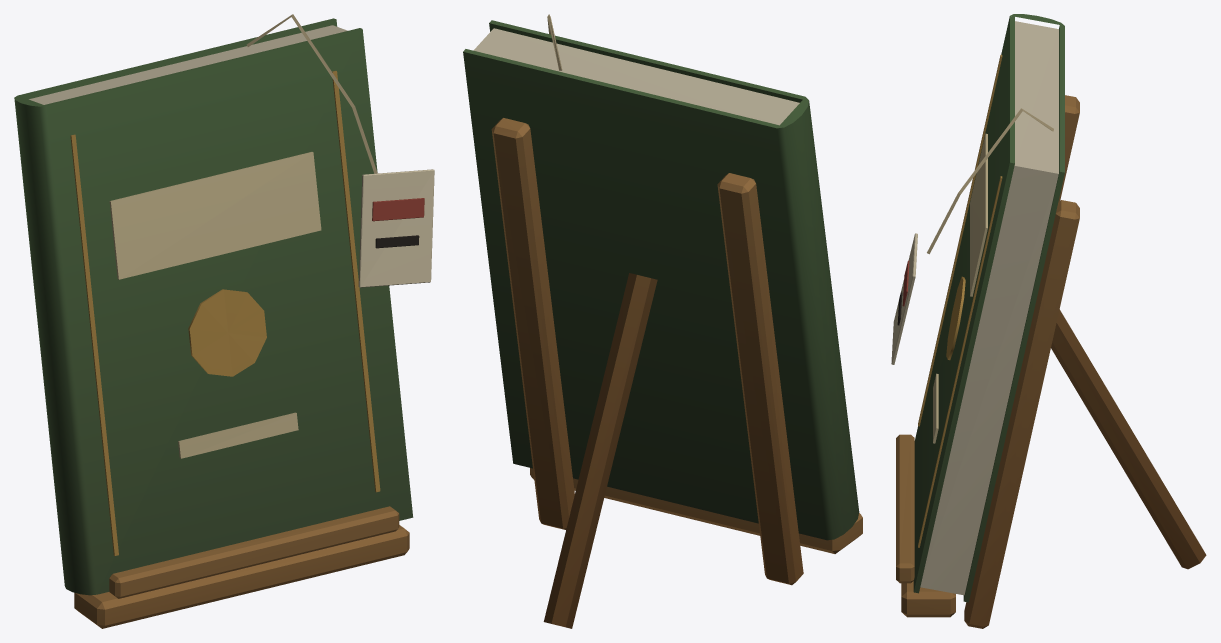
The model's file is faceout-book.glb.
The picture shows the model from 3 angles, left to right: view 1: azimuth 30°, elevation 25°; view 2: azimuth 150°, elevation 25°; view 3: azimuth 270°, elevation 25°; orthographic projection. The views are drawn at different scales.
Parts seen in each view (by area): view 1: faceout_book; view 2: faceout_book; view 3: faceout_book.
Boxes of the visible parts, x1=… form: faceout_book: x1=14, y1=14, x2=434, y2=628; faceout_book: x1=463, y1=14, x2=862, y2=628; faceout_book: x1=891, y1=14, x2=1206, y2=628.
Size of the model in its own units: 0.2449 by 0.3599 by 0.2018.
